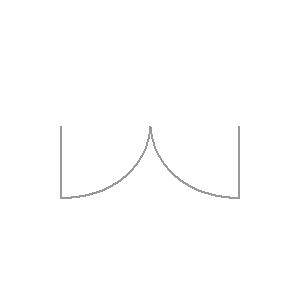door: (54, 117, 245, 210), (151, 98, 250, 203), (40, 110, 151, 201)
